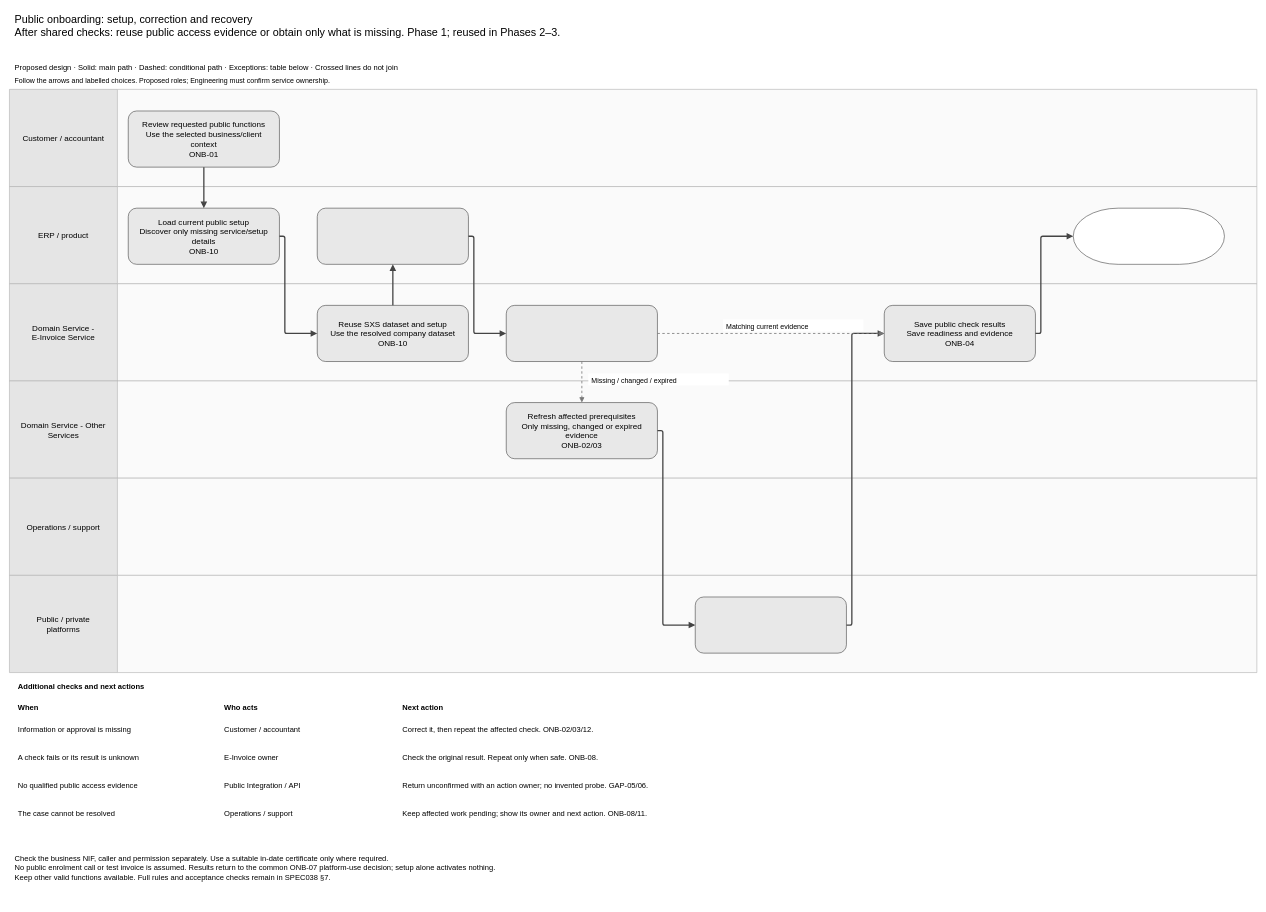
This 1266x912 diagram has some shape labels left out. Each missing label, with the box of its shape:
Check public service access Qualified method only; GAP-05/06 open ONB-04: (695, 596, 846, 653)
Coordinate public access check Reuse matching current evidence ONB-03/04: (506, 305, 657, 362)
Request public access check Selected business, action and environment ONB-03/04: (317, 208, 468, 264)
Show result and next action Readiness / pending / owner; use separate ONB-11: (1073, 208, 1224, 264)
